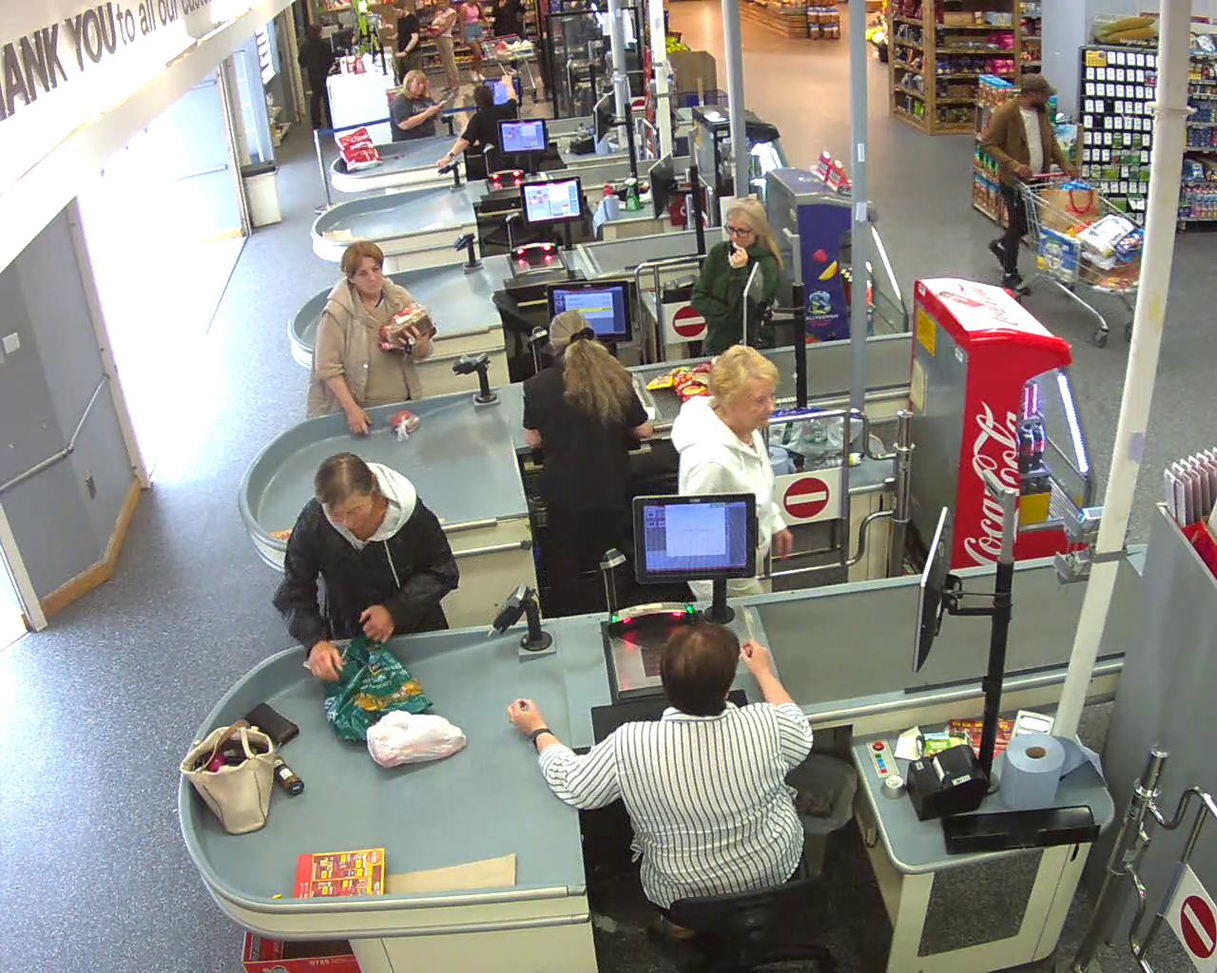filled-trolly: (1014, 163, 1147, 345)
occupied-checkout-counter: (489, 492, 824, 928), (454, 277, 676, 531), (441, 74, 523, 159)
person: (983, 76, 1077, 293)
person-with-filled-basket-trolly: (983, 76, 1146, 345)
vacant-checkout-counter: (454, 174, 606, 336), (437, 117, 551, 234)
